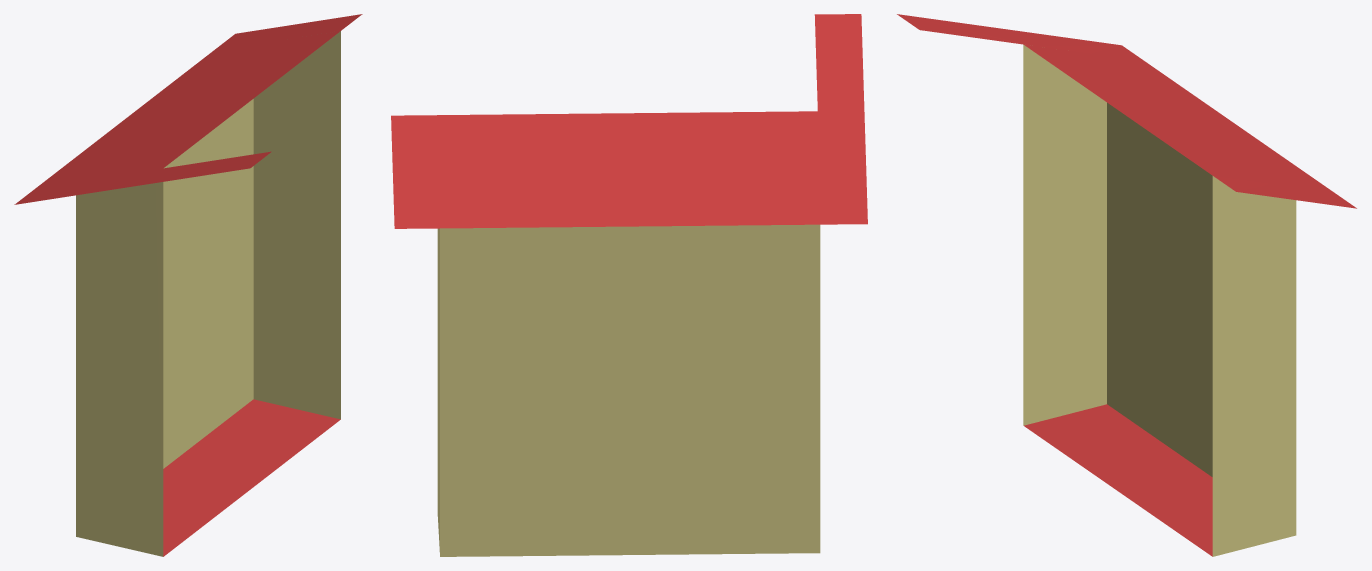
The picture shows the model from 3 angles, left to right: view 1: azimuth 30°, elevation 25°; view 2: azimuth 150°, elevation 25°; view 3: azimuth 270°, elevation 25°; orthographic projection. The views are drawn at different scales.
Bounding box in the file's own units: 7.75 × 7.76 × 7.84.
